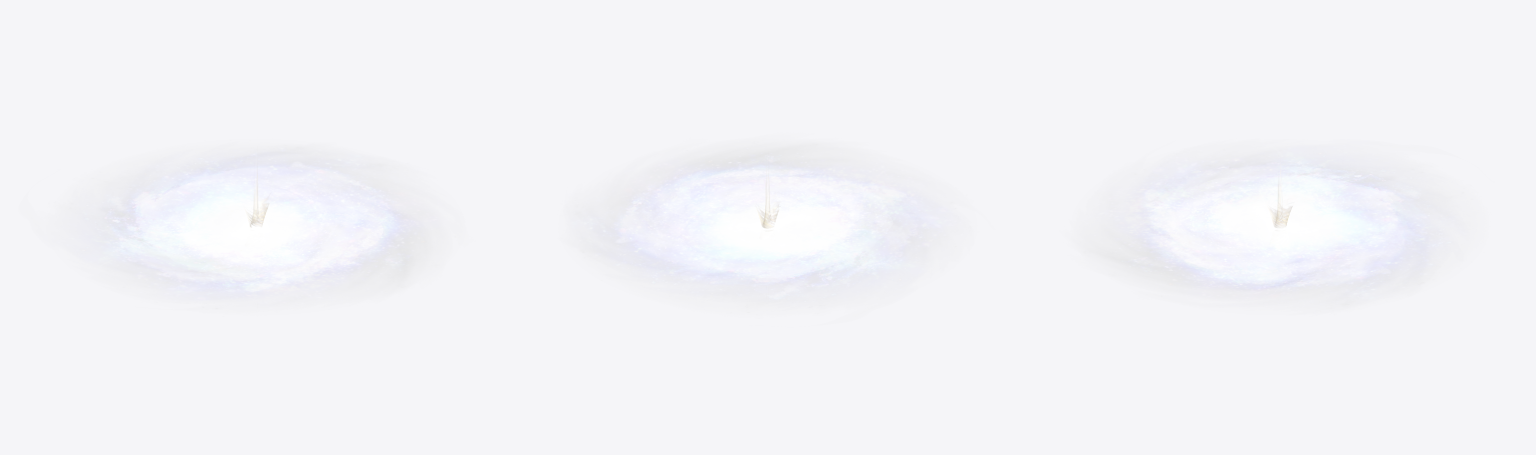
Rendered from galaxy1.glb.
3 renders of one model, left to right at view 1: azimuth 30°, elevation 25°; view 2: azimuth 150°, elevation 25°; view 3: azimuth 270°, elevation 25°, orthographic.
Visible parts, largest first — view 1: spiral3_plane, spiral2_plane, spiral1_plane, spiral4_plane, spire; view 2: spiral3_plane, spiral2_plane, spiral1_plane, spiral4_plane, spire; view 3: spiral3_plane, spiral2_plane, spiral1_plane, spiral4_plane, spire.
Part boxes in pixels (x1,y1,x2,y2): spiral3_plane: (74, 158, 438, 299); spiral2_plane: (110, 150, 426, 295); spiral1_plane: (69, 145, 424, 308); spiral4_plane: (148, 188, 384, 276); spire: (244, 174, 268, 227); spiral3_plane: (591, 151, 937, 302); spiral2_plane: (589, 145, 928, 278); spiral1_plane: (575, 144, 951, 312); spiral4_plane: (679, 173, 905, 267); spire: (754, 175, 778, 231); spiral3_plane: (1110, 151, 1451, 303); spiral2_plane: (1094, 157, 1429, 295); spiral1_plane: (1084, 153, 1463, 305); spiral4_plane: (1175, 170, 1381, 269); spire: (1267, 171, 1292, 227).
Bounding box in the file's own units: 407 × 396 × 407.
Materials: 5 (5 with a texture image).
